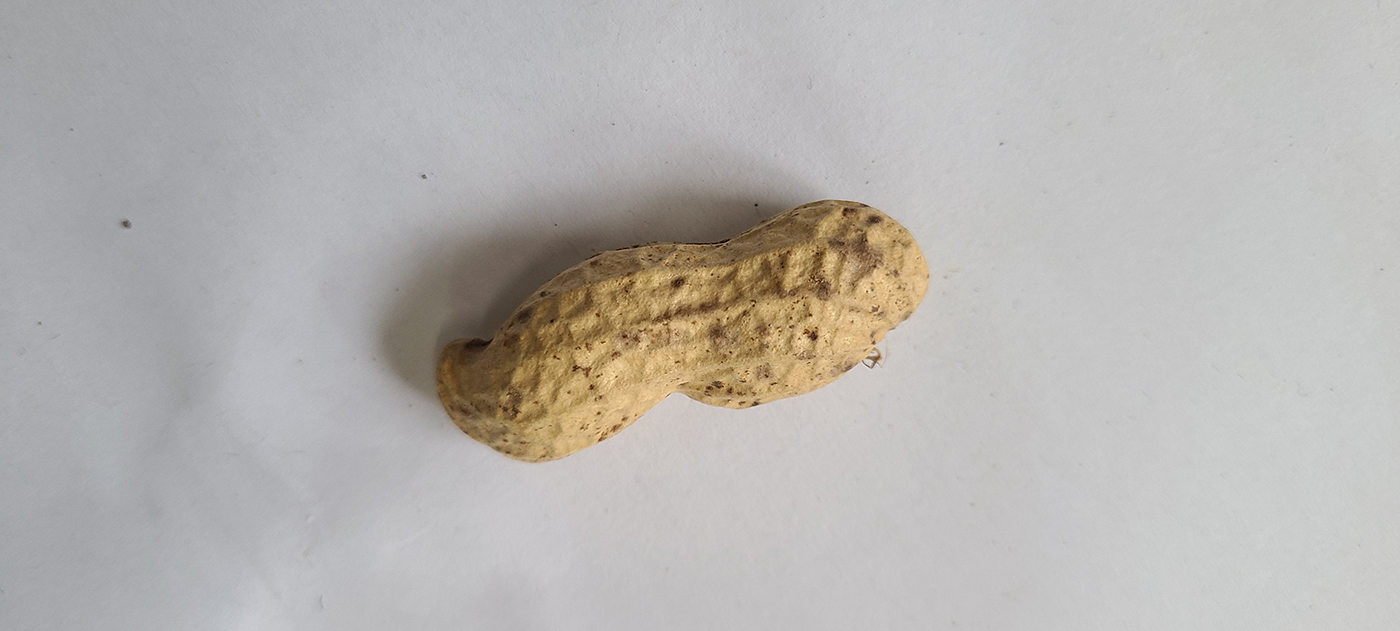h: (434, 198, 923, 463)
